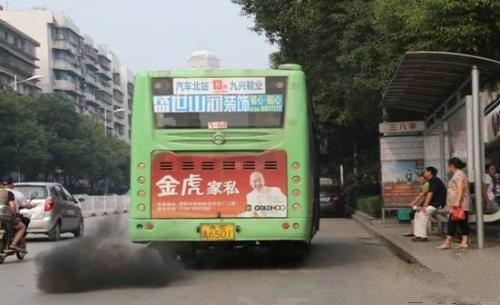smoke: (36, 242, 182, 293)
